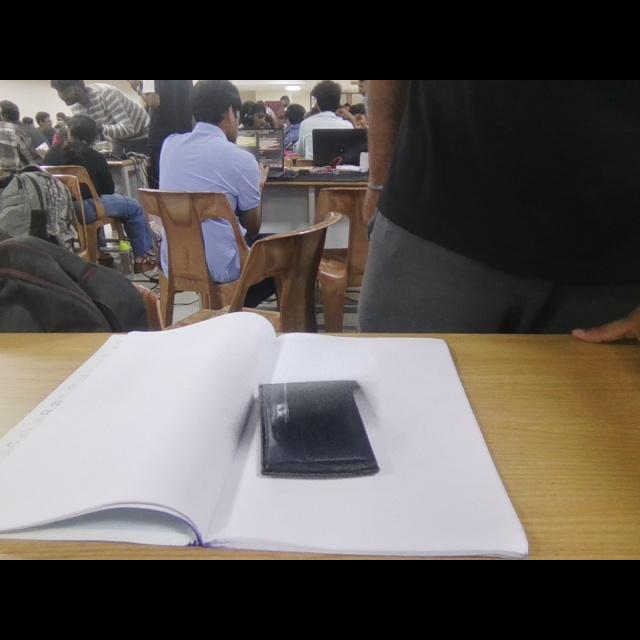wallet: (255, 374, 383, 484)
